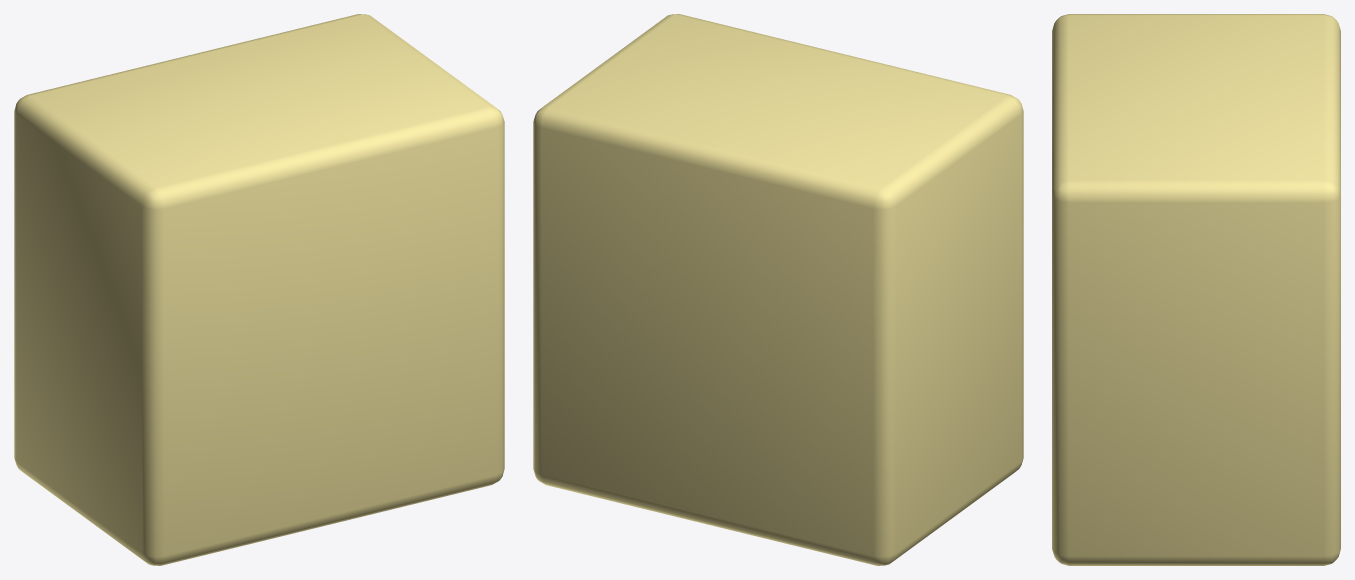
The model's file is cube brick.fbx.
3 views of the same model, side by side, from view 1: azimuth 30°, elevation 25°; view 2: azimuth 150°, elevation 25°; view 3: azimuth 270°, elevation 25° (orthographic).
Visible parts, largest first — view 1: Cube.010; view 2: Cube.010; view 3: Cube.010.
Part boxes in pixels (x1,y1,x2,y2): Cube.010: (14, 14, 504, 565); Cube.010: (533, 14, 1023, 565); Cube.010: (1052, 14, 1340, 565).
Size of the model in its own units: 2.81 by 2.81 by 1.91.
